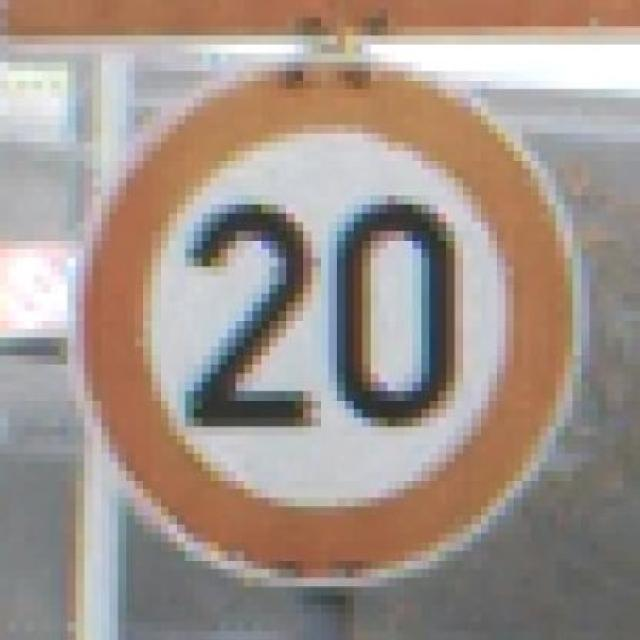forb_speed_over_20: (82, 65, 575, 580)
